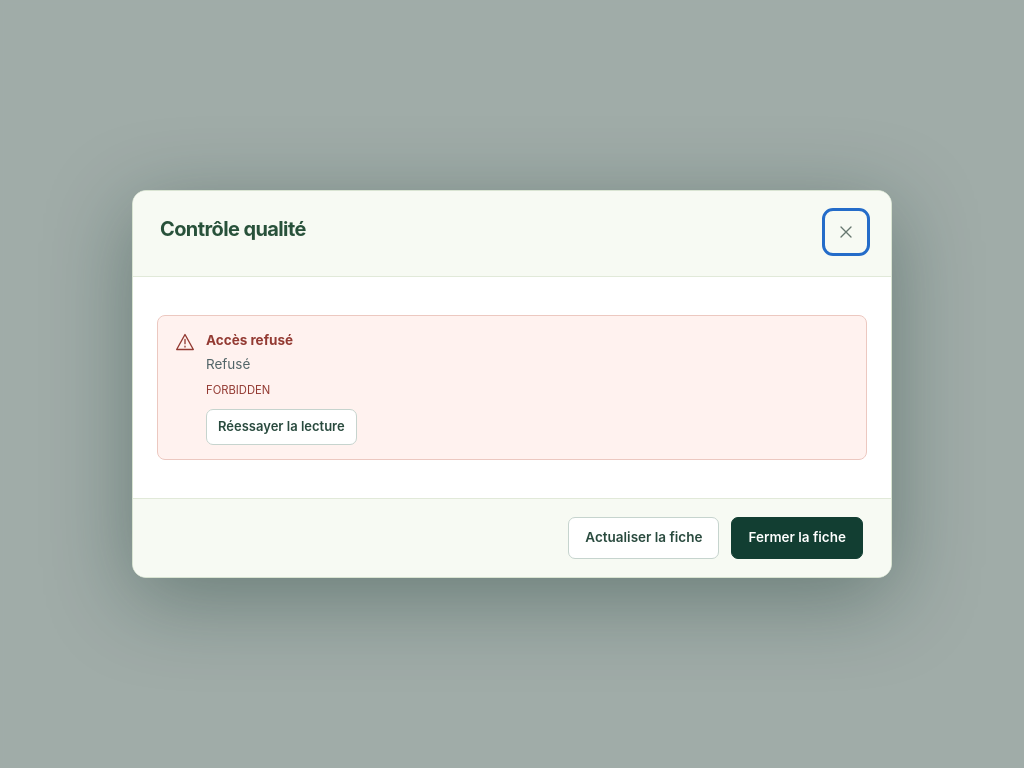
Test: permet de relire une fiche après un échec sans afficher les données précédentes
Check: the message "Accès refusé Refusé FORBIDDEN Réessayer la lecture" is shown, box [157, 315, 867, 460]
Click the button "Actualiser la fiche": click(644, 538) [568, 517, 720, 559]
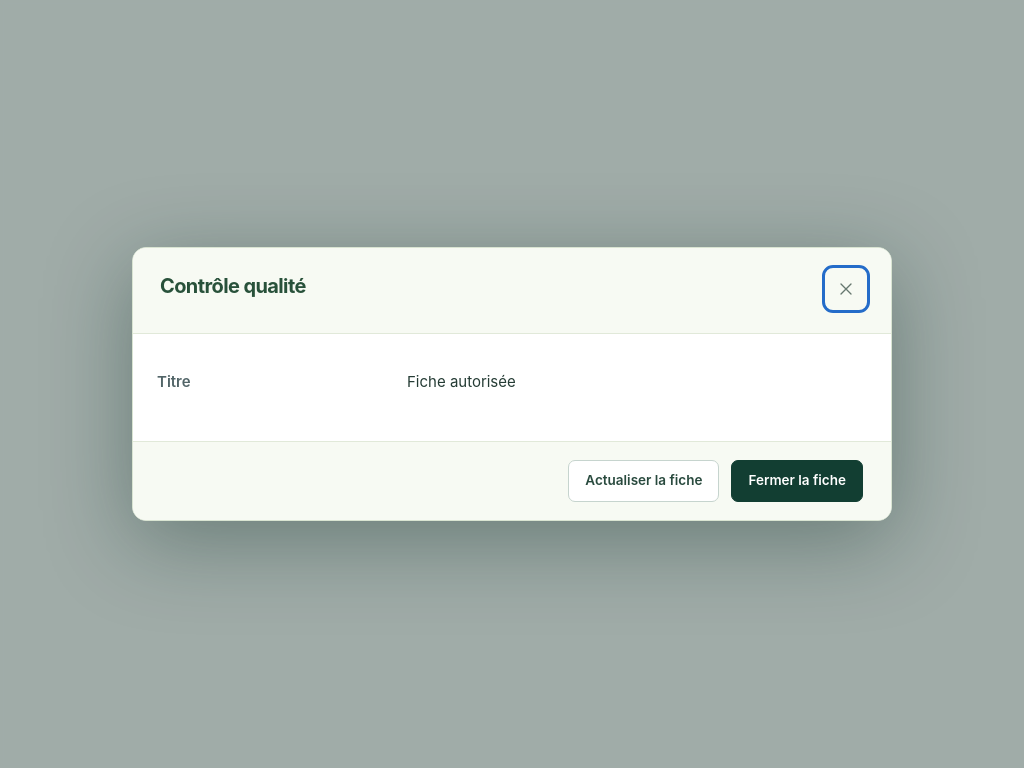
Check: the text "Fiche autorisée" is shown, box [407, 372, 516, 391]
